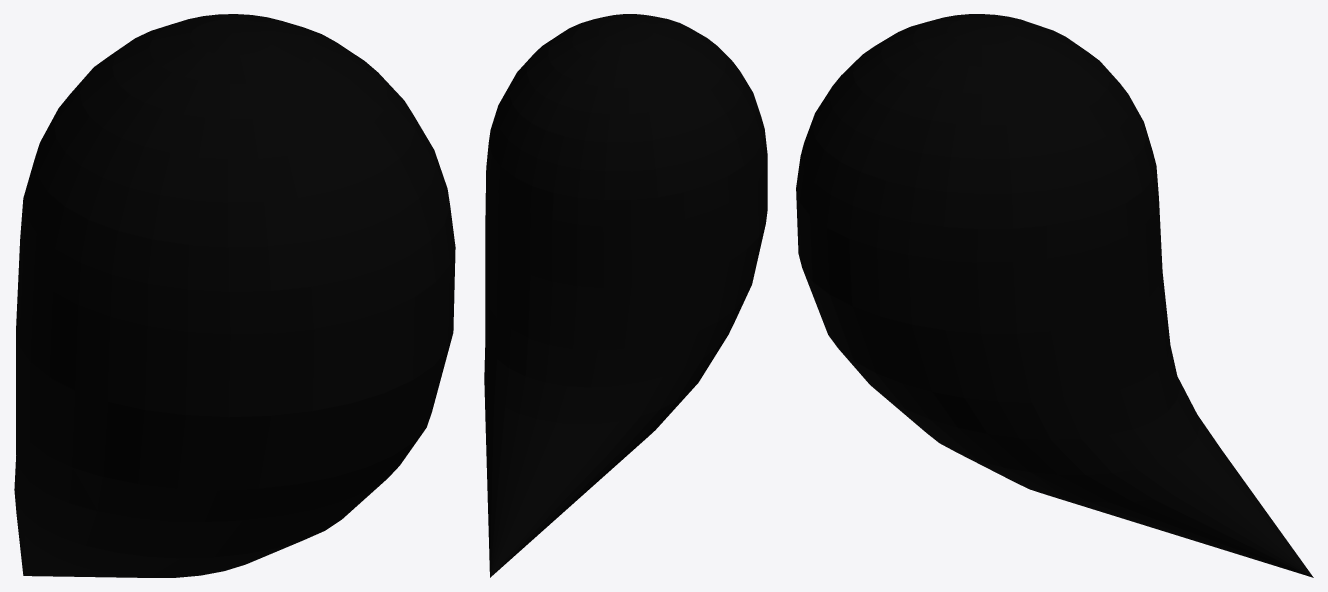
File: ghostBlack.obj
The picture shows the model from 3 angles, left to right: view 1: azimuth 30°, elevation 25°; view 2: azimuth 150°, elevation 25°; view 3: azimuth 270°, elevation 25°; orthographic projection. The views are drawn at different scales.
Parts seen in each view (by area): view 1: 球; view 2: 球; view 3: 球.
Part boxes in pixels (box(x1,y1,x2,y2)): 球: box(14, 14, 455, 577); 球: box(484, 14, 767, 577); 球: box(796, 14, 1313, 577).
Bounding box in the file's own units: 0.875 × 1.57 × 1.34.
Materials: 1 (1 with a texture image).
